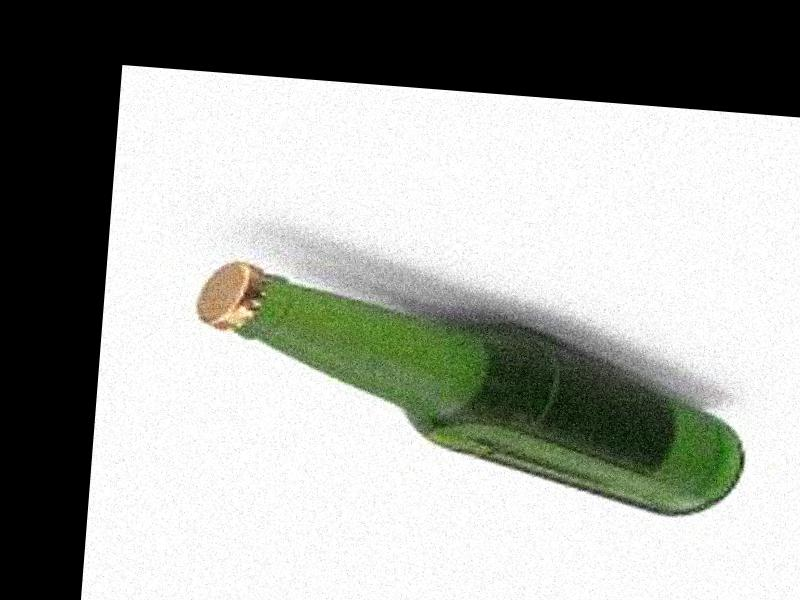Beer: (180, 257, 757, 521)
